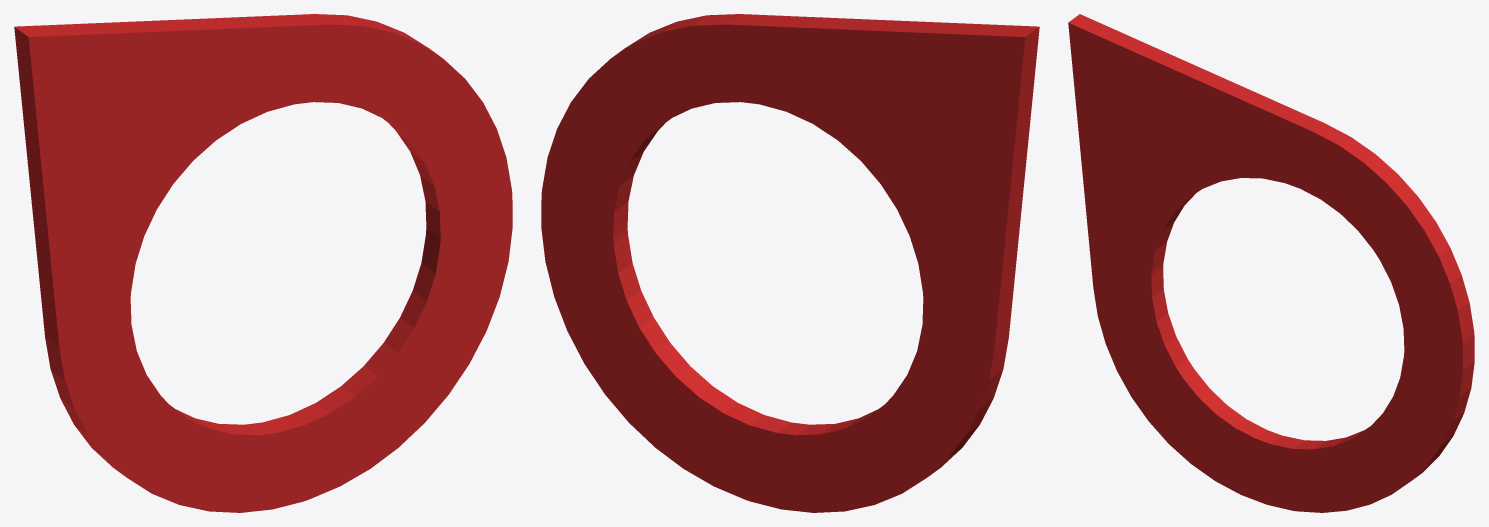
Rendered from converted_link2_23_d12626ff.obj.
3 views of the same model, side by side, from view 1: azimuth 30°, elevation 25°; view 2: azimuth 150°, elevation 25°; view 3: azimuth 330°, elevation 25° (orthographic). The views are drawn at different scales.
Size of the model in its own units: 0.00195 by 0.00204 by 0.0001.
